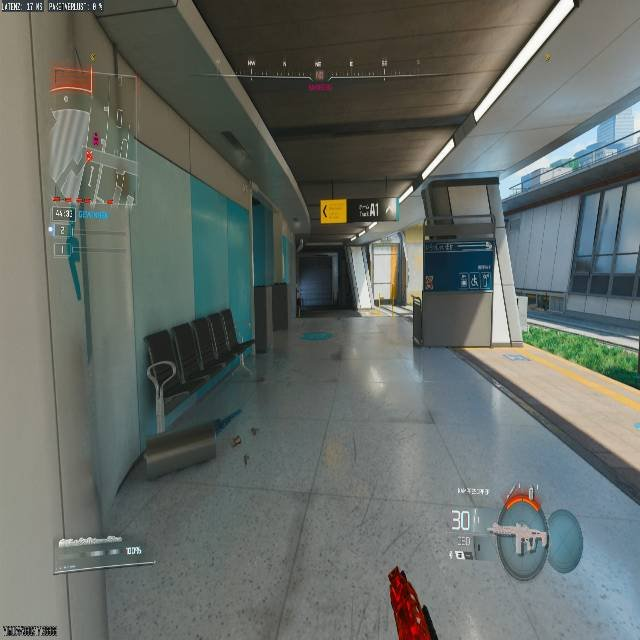player: (295, 285, 304, 316)
